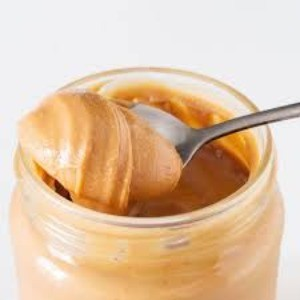peanut butter_brain food: (37, 91, 247, 233)
